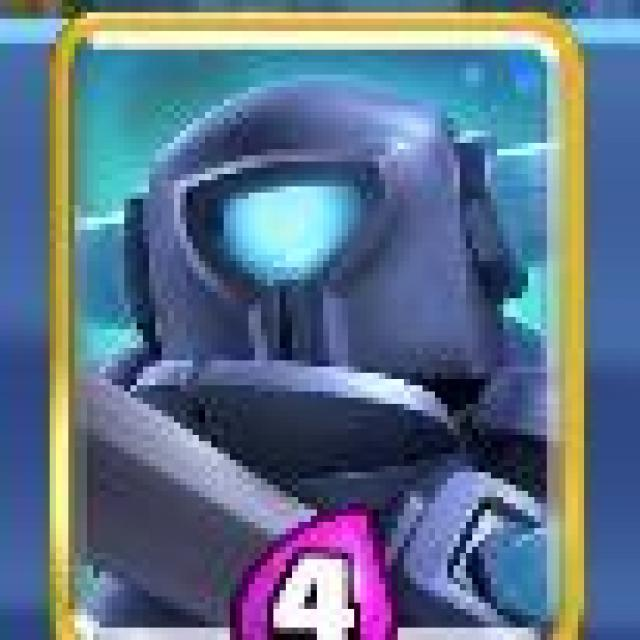Mini_Pekka: (50, 15, 583, 640)
